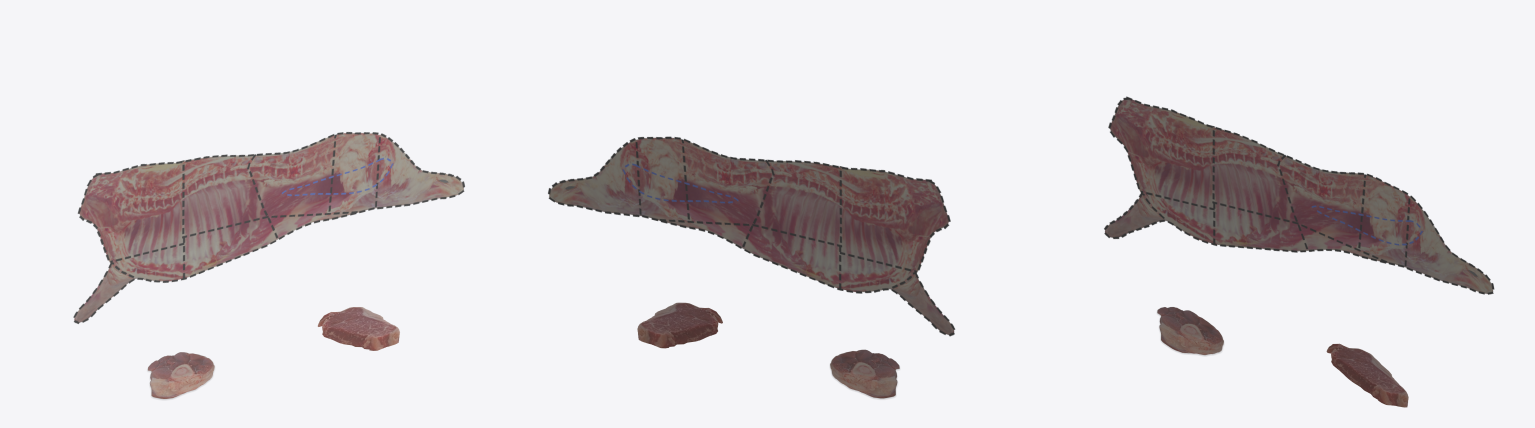
File: Game_Beef2.glb
The picture shows the model from 3 angles, left to right: view 1: azimuth 30°, elevation 25°; view 2: azimuth 150°, elevation 25°; view 3: azimuth 330°, elevation 25°; orthographic projection. The views are drawn at different scales.
Parts seen in each view (by area): view 1: Beef, Striploin, Ossobuco; view 2: Beef, Striploin, Ossobuco; view 3: Beef, Striploin, Ossobuco.
Boxes of the visible parts, box(x1,y1,x2,y2) form: Beef: box(73, 132, 464, 323); Striploin: box(317, 307, 399, 350); Ossobuco: box(147, 352, 214, 399); Beef: box(548, 136, 955, 336); Striploin: box(637, 302, 722, 348); Ossobuco: box(830, 349, 899, 398); Beef: box(1104, 96, 1494, 294); Striploin: box(1326, 343, 1408, 407); Ossobuco: box(1157, 307, 1223, 355).
Bounding box in the file's own units: 3.94 × 2.39 × 0.1496.
Materials: 3 (3 with a texture image).
